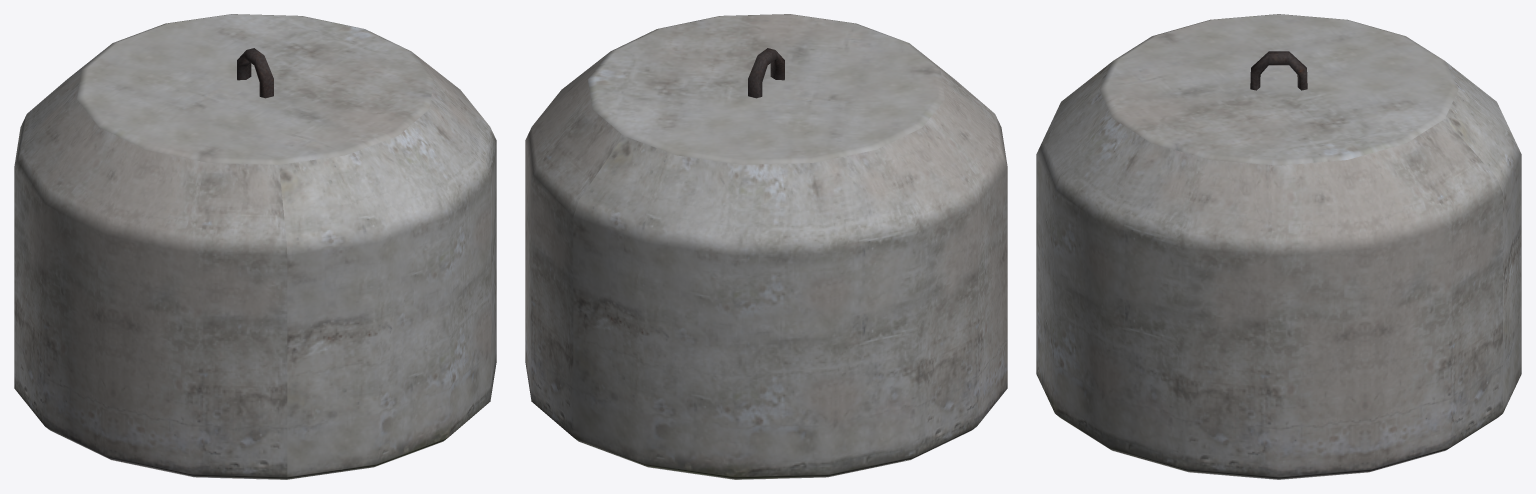
File: Concrete_Cylinder.fbx
The picture shows the model from 3 angles, left to right: view 1: azimuth 30°, elevation 25°; view 2: azimuth 150°, elevation 25°; view 3: azimuth 270°, elevation 25°; orthographic projection.
Parts seen in each view (by area): view 1: Concrete_Cylinder; view 2: Concrete_Cylinder; view 3: Concrete_Cylinder.
Boxes of the visible parts, x1,y1,x2,y2 form: Concrete_Cylinder: (14, 14, 496, 479); Concrete_Cylinder: (525, 14, 1007, 479); Concrete_Cylinder: (1036, 14, 1521, 479).
Bounding box in the file's own units: 150 × 112 × 150.
